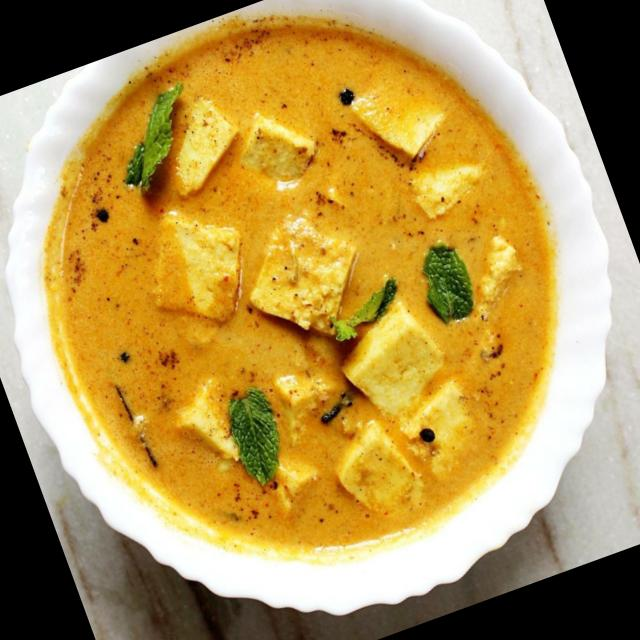ShahiPaneer: (0, 0, 625, 621)
